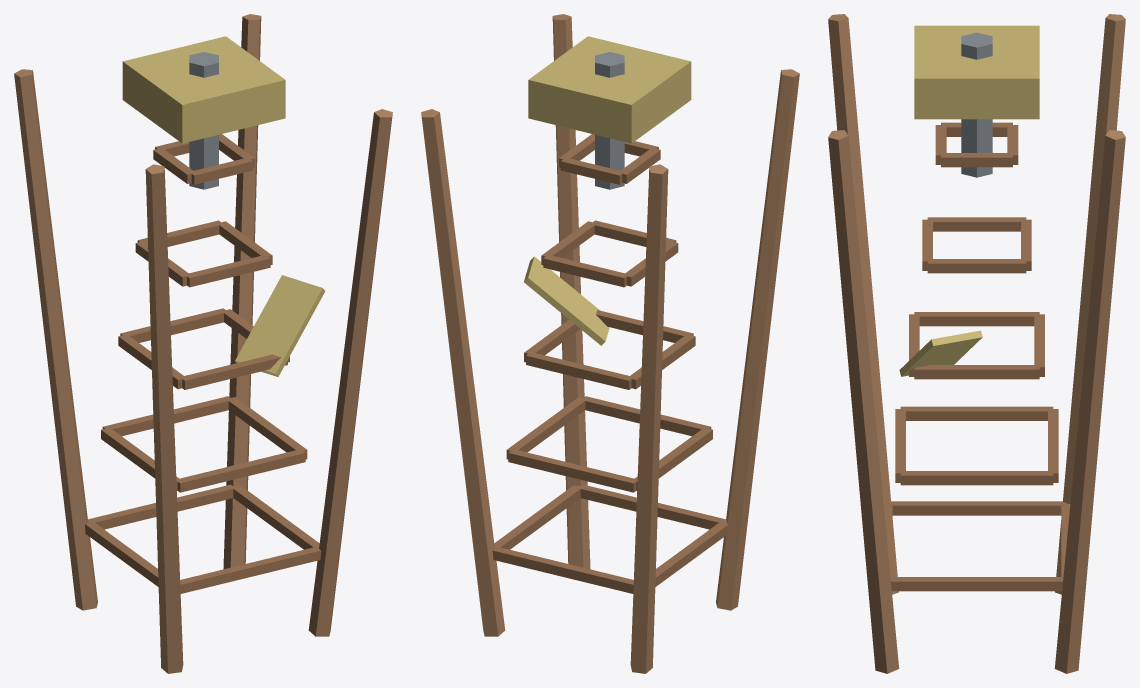
The model's file is valak_torre_2.glb.
3 views of the same model, side by side, from view 1: azimuth 30°, elevation 25°; view 2: azimuth 150°, elevation 25°; view 3: azimuth 270°, elevation 25° (orthographic). The views are drawn at different scales.
Visible parts, largest first — view 1: torre; view 2: torre; view 3: torre.
Boxes of the visible parts, x1,y1,x2,y2 form: torre: (14, 14, 392, 673); torre: (421, 14, 799, 673); torre: (828, 14, 1125, 673).
Bounding box in the file's own units: 1.66 × 3.64 × 1.66.
